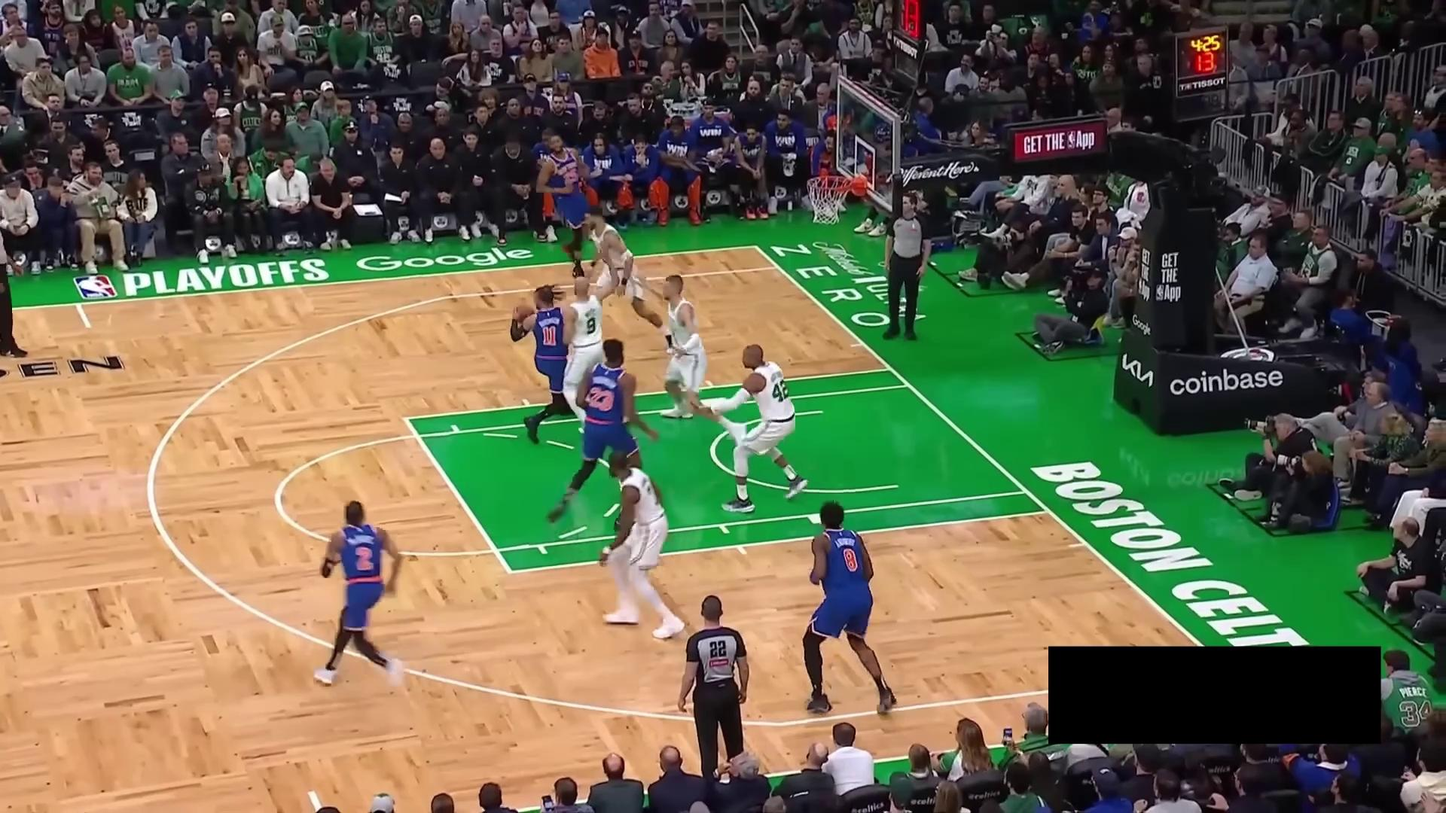number: (586, 385, 615, 411), (355, 545, 374, 572), (843, 547, 858, 573), (772, 380, 789, 402), (542, 324, 558, 346), (563, 166, 579, 185), (586, 316, 596, 336)
player: (547, 336, 659, 526), (801, 500, 898, 717), (689, 342, 810, 514), (313, 499, 404, 693), (598, 449, 685, 641), (657, 274, 748, 448), (578, 205, 679, 356), (559, 241, 624, 448), (535, 132, 600, 282)
player-in-possession: (510, 285, 575, 446)
referee: (677, 595, 750, 779), (882, 190, 933, 342), (0, 191, 29, 358)
rim: (806, 174, 853, 191)
